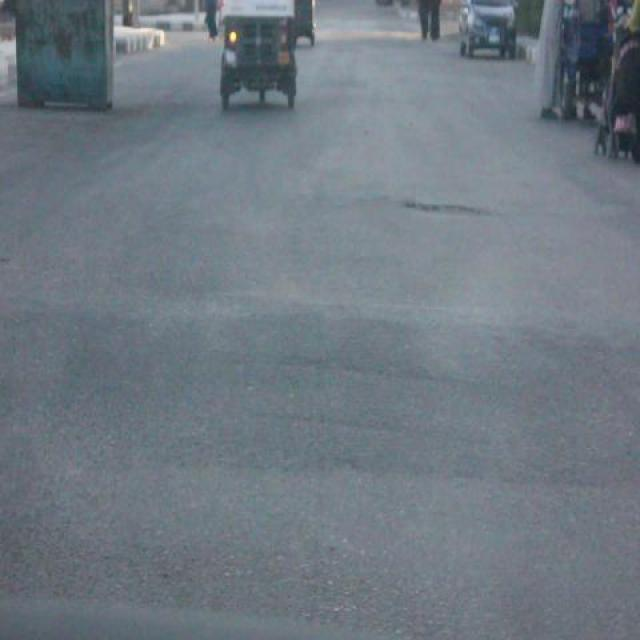Pothole: (402, 183, 502, 220)
Unmarked Bump: (1, 281, 640, 492)
